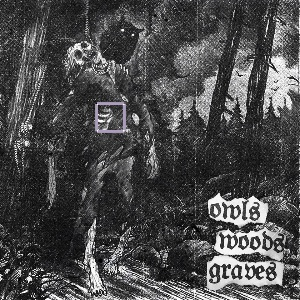square: (93, 100, 129, 135)
